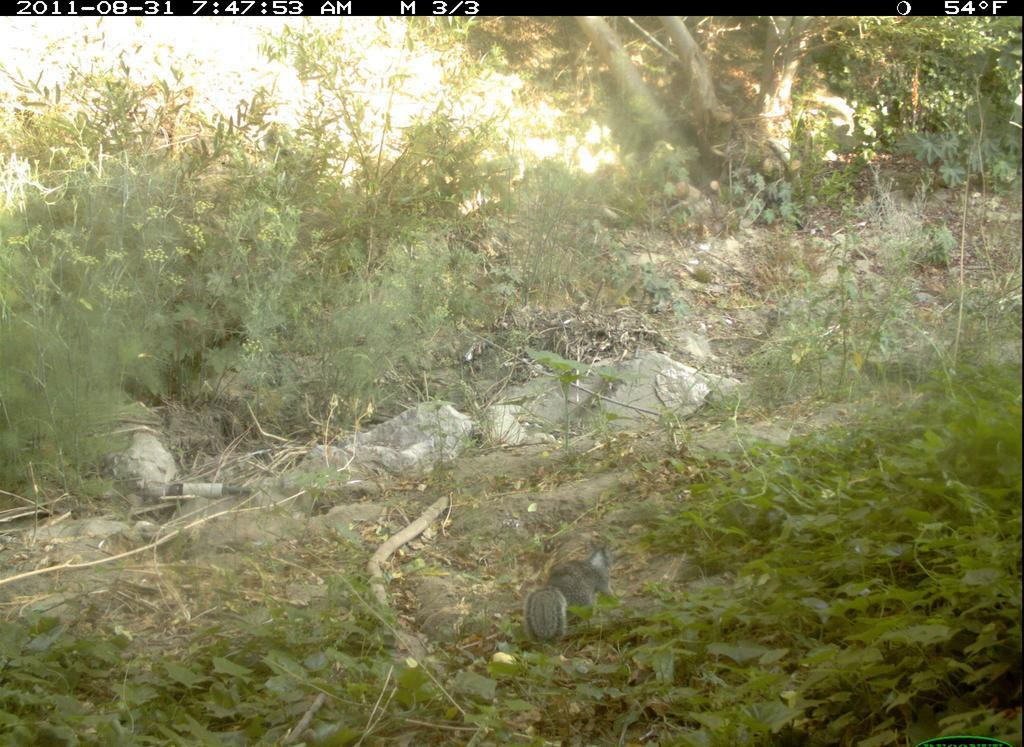squirrel: (493, 521, 649, 656)
